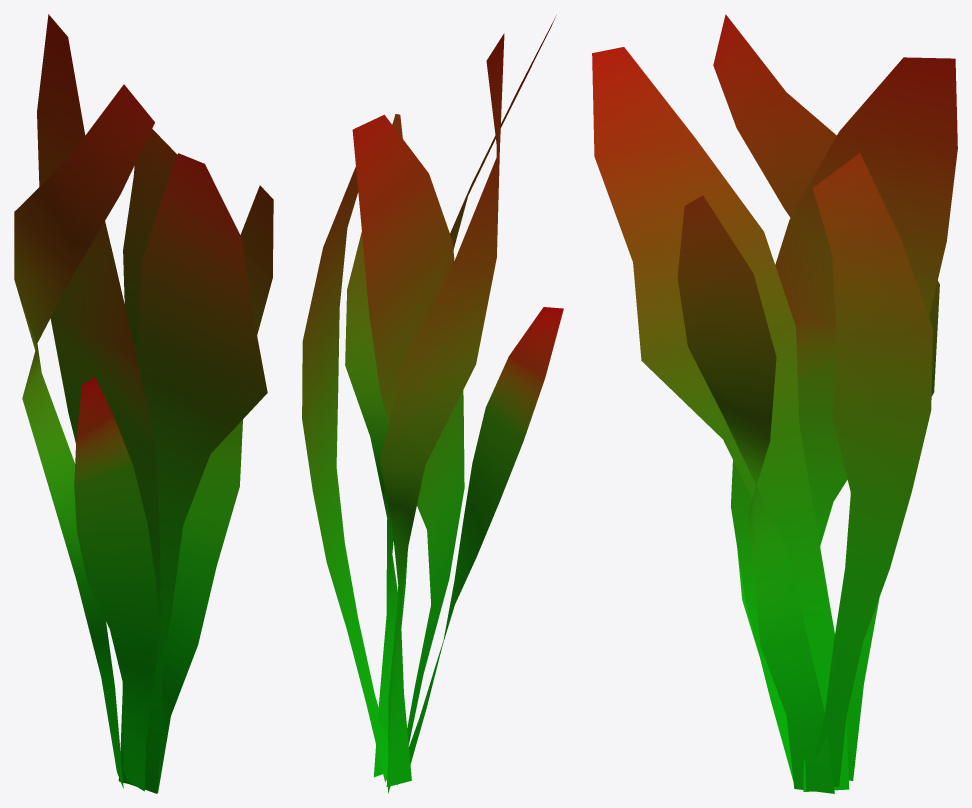
File: Var2_LOD2.fbx
3 views of the same model, side by side, from view 1: azimuth 30°, elevation 25°; view 2: azimuth 150°, elevation 25°; view 3: azimuth 270°, elevation 25° (orthographic). The views are drawn at different scales.
Visible parts, largest first — view 1: _a747_Var2_LOD2; view 2: _a747_Var2_LOD2; view 3: _a747_Var2_LOD2.
Boxes of the visible parts, x1,y1,x2,y2 form: _a747_Var2_LOD2: [14, 14, 273, 793]; _a747_Var2_LOD2: [302, 15, 563, 793]; _a747_Var2_LOD2: [592, 14, 957, 793].
Bounding box in the file's own units: 26.26 × 97.8 × 43.37.
